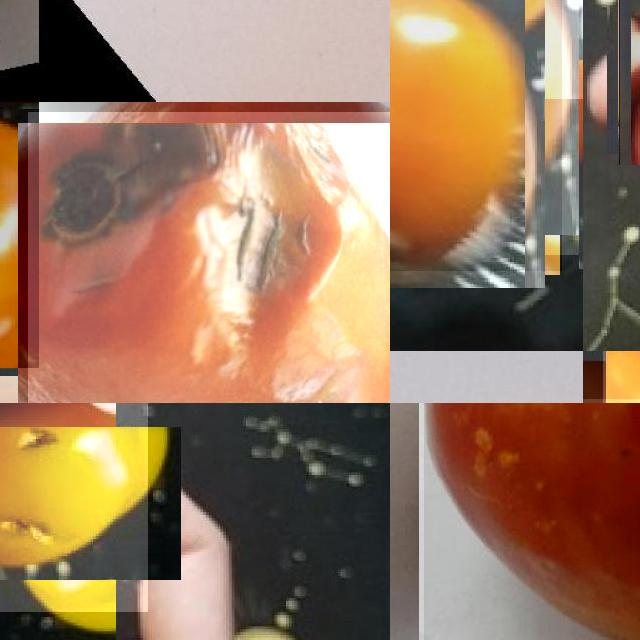1: (0, 403, 148, 612)
Fresh Tomato: (390, 0, 562, 271)
Rotten Tomato: (28, 112, 390, 403), (424, 403, 640, 640)
